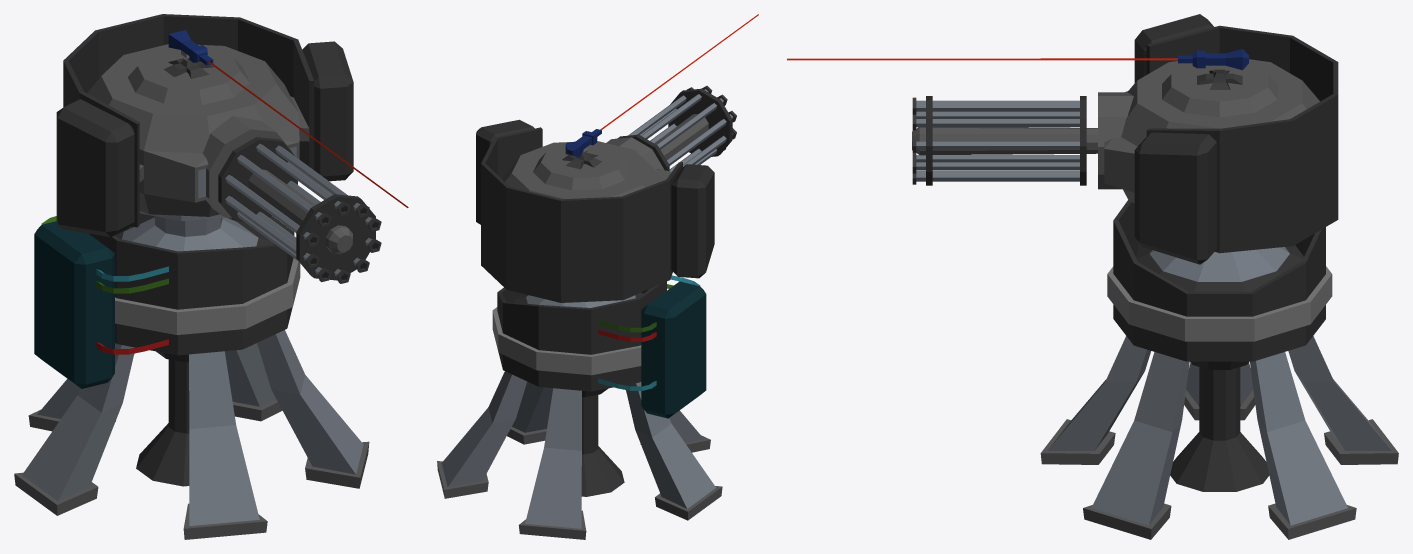
Rendered from Turret 4.fbx.
The picture shows the model from 3 angles, left to right: view 1: azimuth 30°, elevation 25°; view 2: azimuth 150°, elevation 25°; view 3: azimuth 270°, elevation 25°; orthographic projection. The views are drawn at different scales.
Visible parts, largest first — view 1: Turret4, TurretHead4, Minigun; view 2: Turret4, TurretHead4, Minigun; view 3: Turret4, TurretHead4, Minigun.
Boxes of the visible parts, bbox=[...] form: Turret4: bbox=[14, 211, 369, 539]; TurretHead4: bbox=[56, 14, 408, 254]; Minigun: bbox=[218, 137, 381, 283]; Turret4: bbox=[437, 275, 722, 539]; TurretHead4: bbox=[476, 14, 758, 302]; Minigun: bbox=[617, 85, 736, 172]; Turret4: bbox=[1040, 200, 1398, 539]; TurretHead4: bbox=[787, 14, 1338, 264]; Minigun: bbox=[912, 96, 1086, 185].
Size of the model in its own units: 63.04 by 85.25 by 113.
